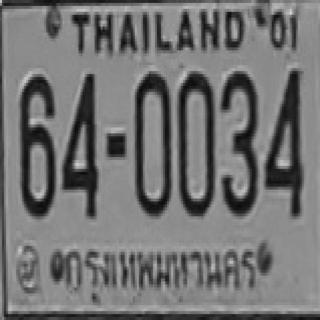N00: (133, 71, 171, 213), (177, 70, 213, 212)
N03: (219, 68, 256, 213)
N04: (264, 65, 302, 213), (60, 71, 97, 216)
N06: (18, 71, 54, 213)
P04: (59, 234, 262, 306)
